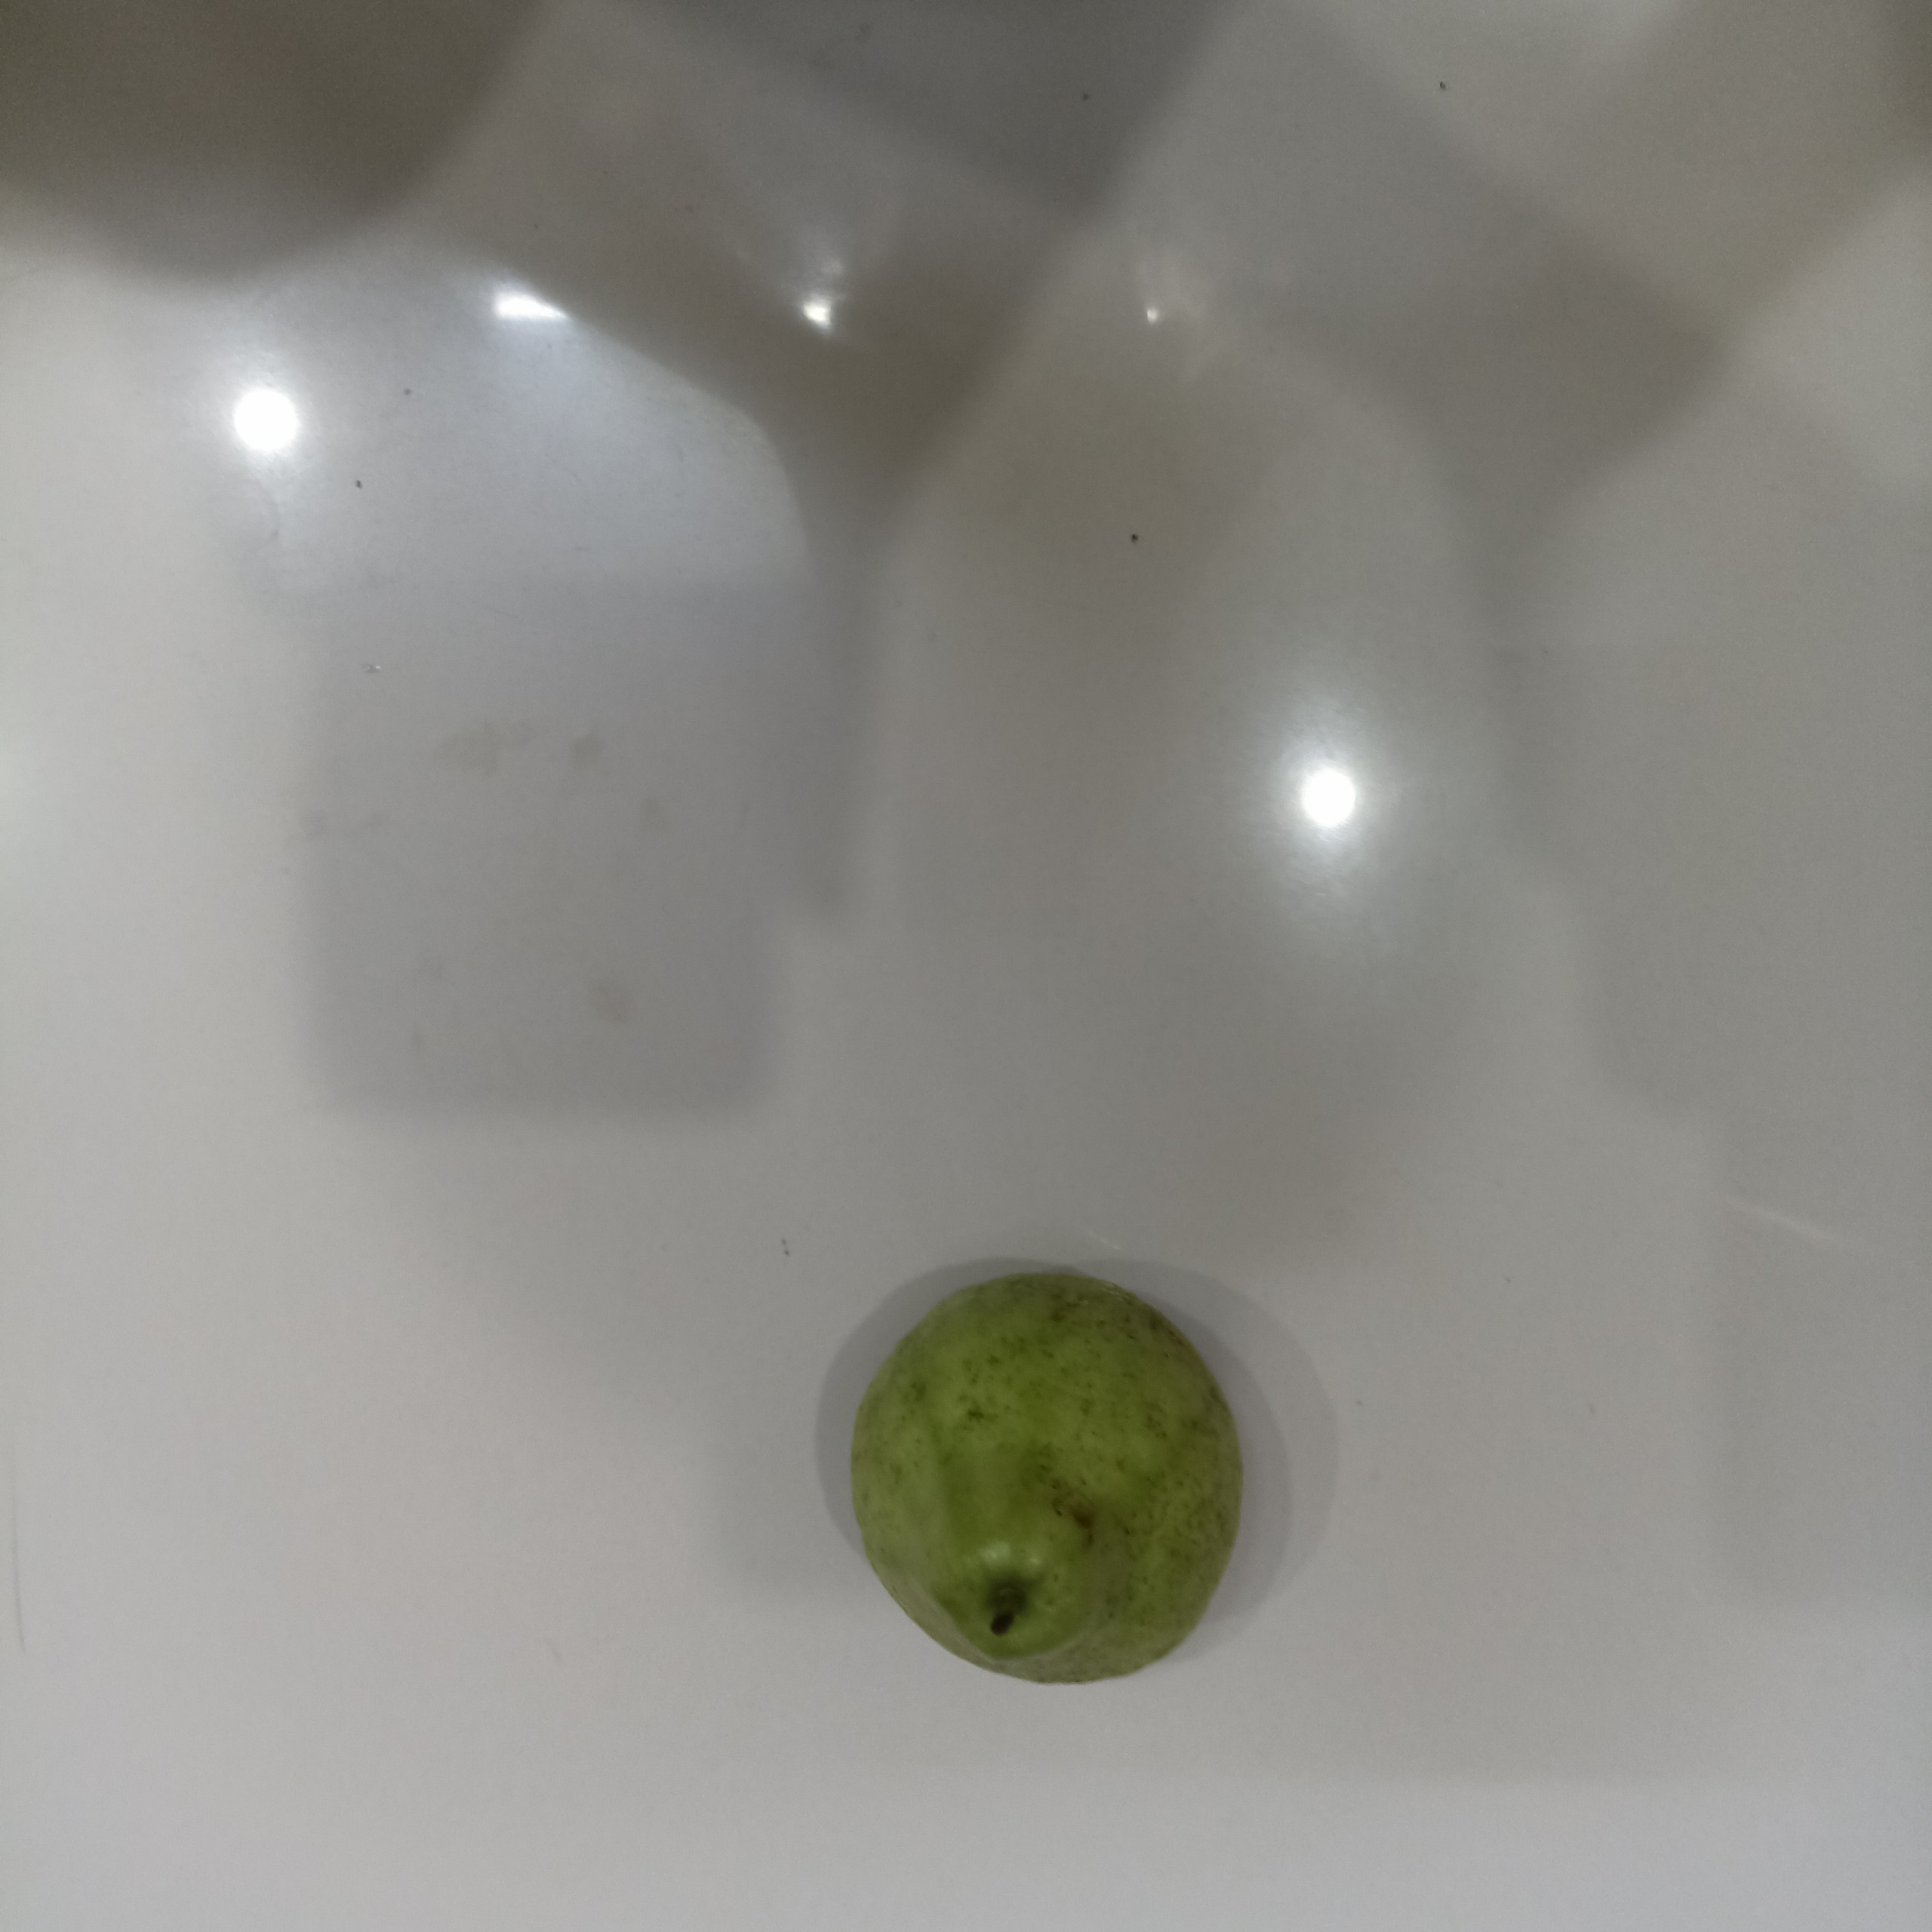Oi: (853, 1270, 1244, 1686)
